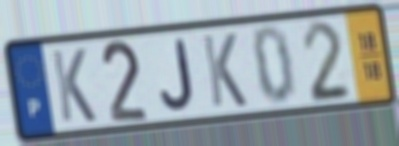0: (251, 23, 297, 108)
2: (300, 18, 353, 106), (101, 37, 149, 123)
J: (158, 37, 196, 113)
K: (199, 30, 250, 110), (48, 46, 99, 125)
